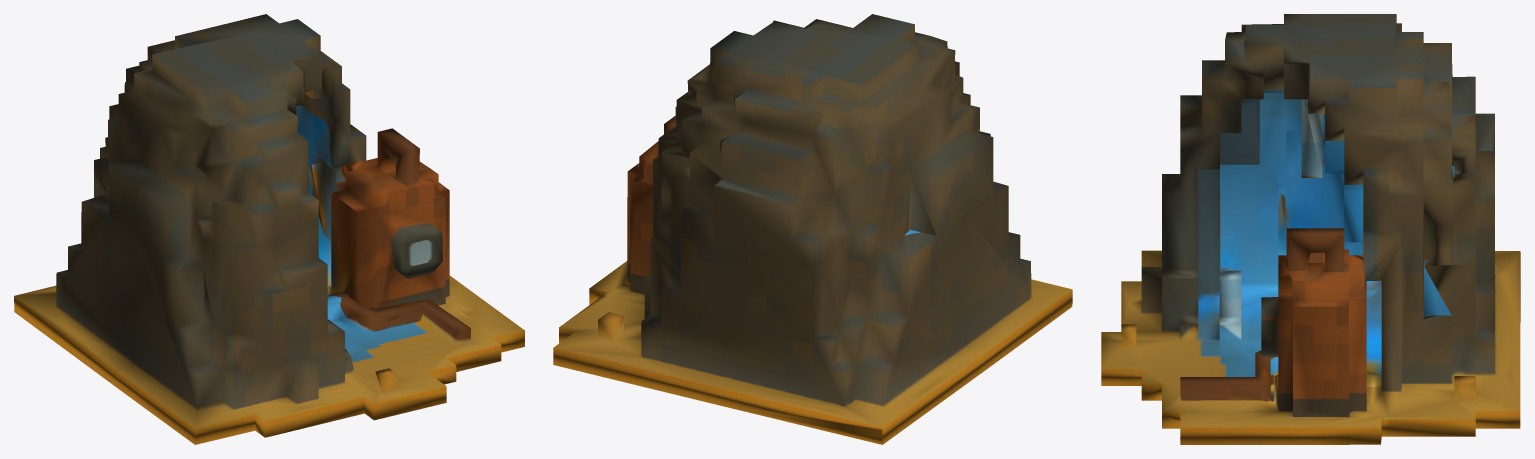
The model's file is voxel_cave.fbx.
The picture shows the model from 3 angles, left to right: view 1: azimuth 30°, elevation 25°; view 2: azimuth 150°, elevation 25°; view 3: azimuth 270°, elevation 25°; orthographic projection. The views are drawn at different scales.
Parts seen in each view (by area): view 1: tripo_node_b93266ba; view 2: tripo_node_b93266ba; view 3: tripo_node_b93266ba.
Boxes of the visible parts, x1,y1,x2,y2 form: tripo_node_b93266ba: (14, 14, 524, 444); tripo_node_b93266ba: (553, 14, 1072, 444); tripo_node_b93266ba: (1101, 14, 1520, 444).
Bounding box in the file's own units: 0.9996 × 0.7742 × 0.9996.
1 material, 1 textured.
